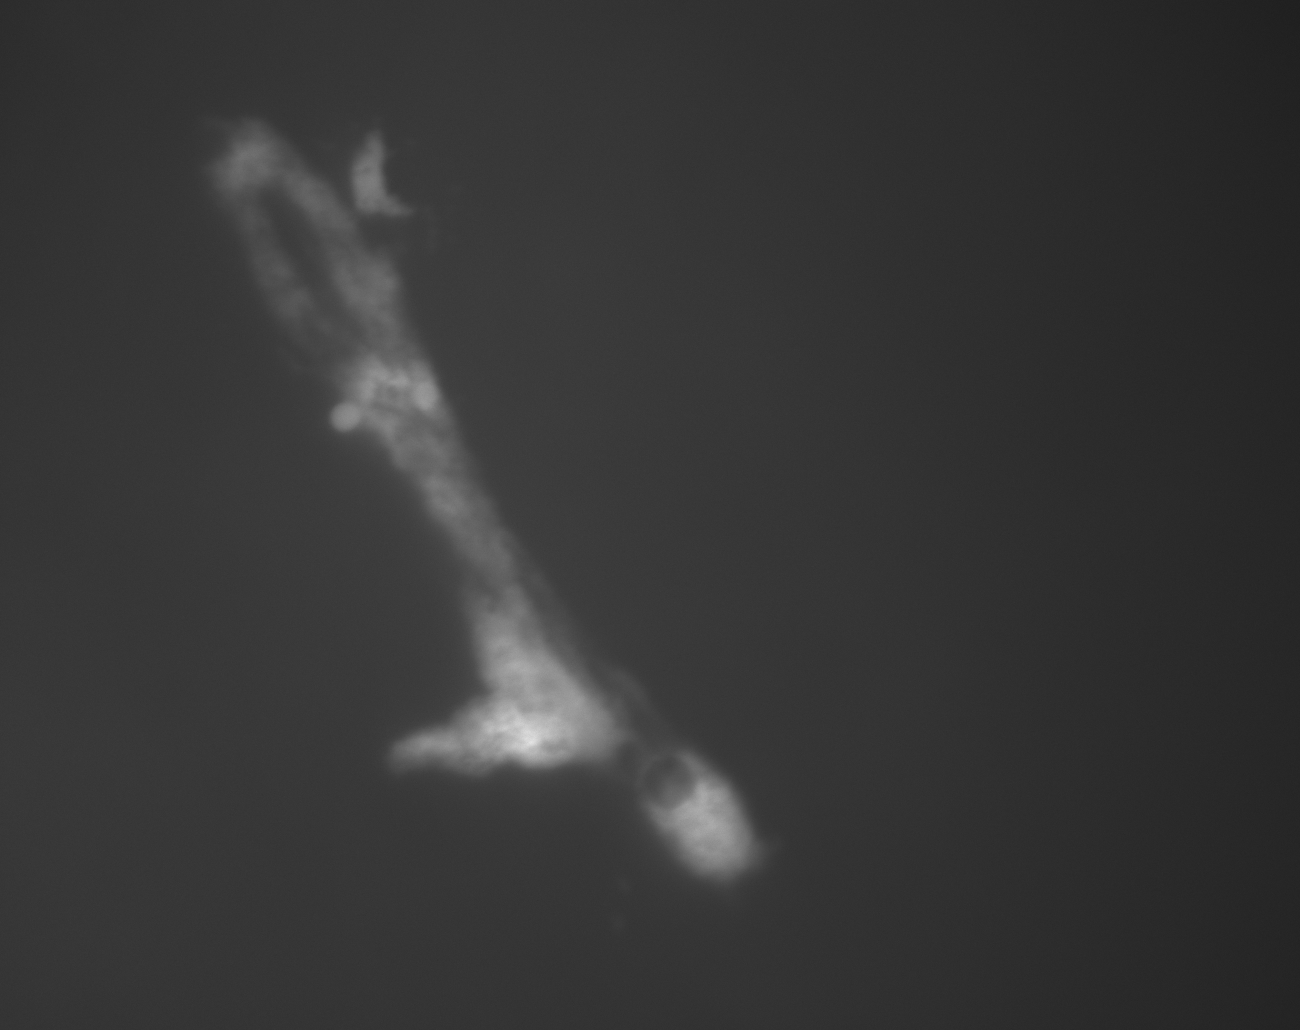Others: (106, 1, 800, 786), (183, 314, 928, 1002)
